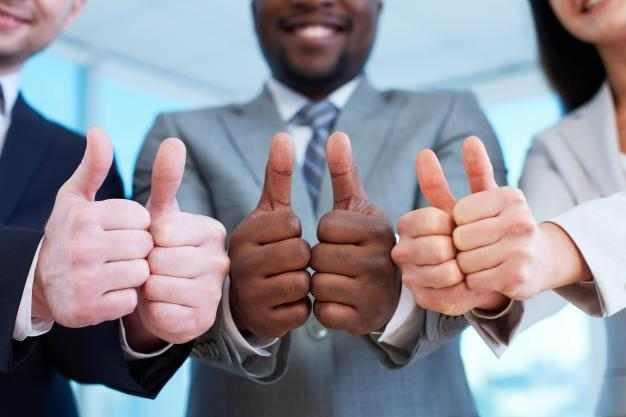thumbsup: (60, 127, 154, 328), (230, 132, 312, 337), (148, 136, 233, 333), (312, 132, 393, 333), (454, 135, 539, 294), (391, 148, 472, 314)
